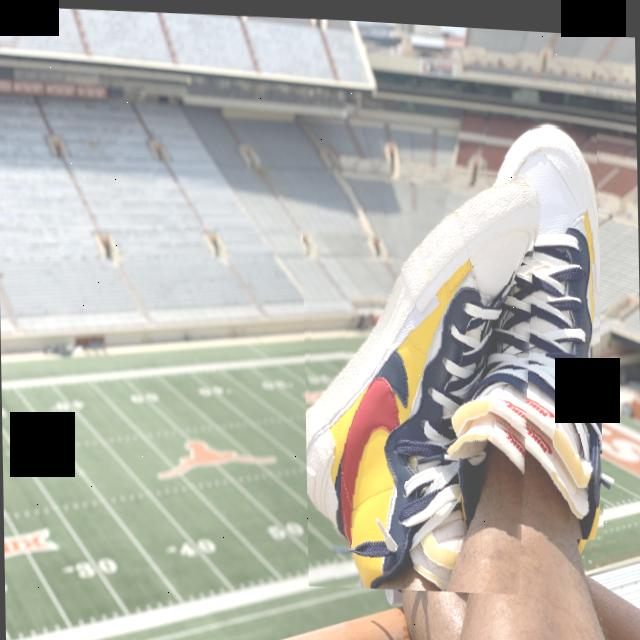shoe: (301, 152, 543, 592), (462, 113, 604, 535)
